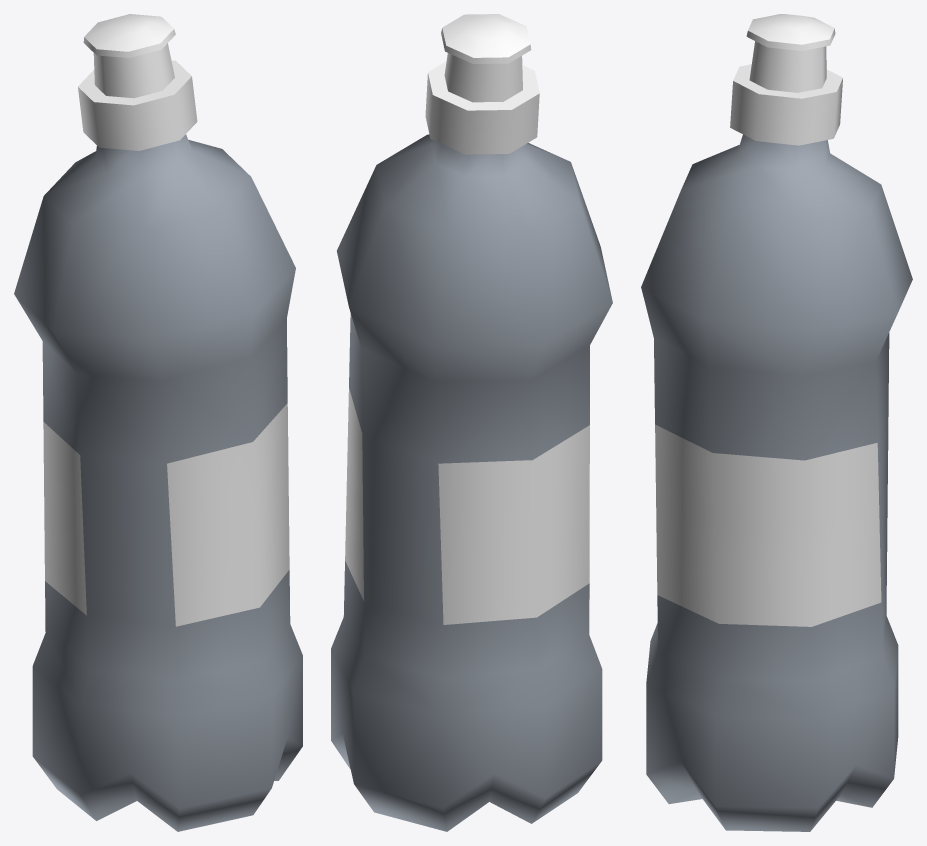
Rendered from SM_Prop_Bottle_01.obj.
3 renders of one model, left to right at view 1: azimuth 30°, elevation 25°; view 2: azimuth 150°, elevation 25°; view 3: azimuth 270°, elevation 25°, orthographic. The views are drawn at different scales.
Parts seen in each view (by area): view 1: SM_Prop_Bottle_01_Mat_PolygonTown_Glass, SM_Prop_Bottle_01_Mat_PolygonTown_01_A_Inst; view 2: SM_Prop_Bottle_01_Mat_PolygonTown_Glass, SM_Prop_Bottle_01_Mat_PolygonTown_01_A_Inst; view 3: SM_Prop_Bottle_01_Mat_PolygonTown_Glass, SM_Prop_Bottle_01_Mat_PolygonTown_01_A_Inst.
Boxes of the visible parts, <box> form: SM_Prop_Bottle_01_Mat_PolygonTown_Glass: <box>14,134,302,831</box>; SM_Prop_Bottle_01_Mat_PolygonTown_01_A_Inst: <box>43,14,289,626</box>; SM_Prop_Bottle_01_Mat_PolygonTown_Glass: <box>331,134,612,831</box>; SM_Prop_Bottle_01_Mat_PolygonTown_01_A_Inst: <box>345,14,589,624</box>; SM_Prop_Bottle_01_Mat_PolygonTown_Glass: <box>641,134,912,831</box>; SM_Prop_Bottle_01_Mat_PolygonTown_01_A_Inst: <box>655,14,881,626</box>.
Size of the model in its own units: 0.1042 by 0.3166 by 0.1034.
Materials: 2 (1 with a texture image).
